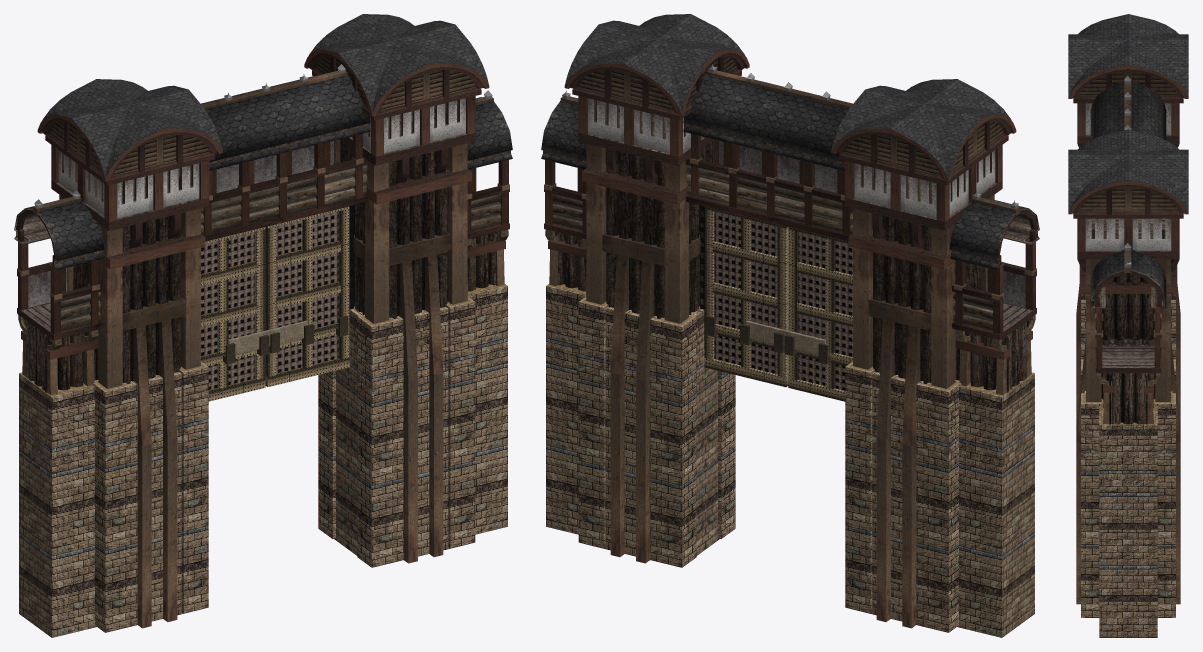
File: s_mauryas_wall_gate.glb
3 views of the same model, side by side, from view 1: azimuth 30°, elevation 25°; view 2: azimuth 150°, elevation 25°; view 3: azimuth 270°, elevation 25° (orthographic). The views are drawn at different scales.
Parts seen in each view (by area): view 1: s_mauryas_wall_gate_part2, s_mauryas_wall_gate_part0, s_mauryas_wall_gate_part1; view 2: s_mauryas_wall_gate_part2, s_mauryas_wall_gate_part0, s_mauryas_wall_gate_part1; view 3: s_mauryas_wall_gate_part2, s_mauryas_wall_gate_part0, s_mauryas_wall_gate_part1.
Part boxes in pixels (box(x1,y1,x2,y2)): s_mauryas_wall_gate_part2: box(14, 14, 512, 628); s_mauryas_wall_gate_part0: box(16, 64, 510, 637); s_mauryas_wall_gate_part1: box(21, 108, 498, 392); s_mauryas_wall_gate_part2: box(541, 14, 1039, 628); s_mauryas_wall_gate_part0: box(543, 64, 1037, 637); s_mauryas_wall_gate_part1: box(555, 140, 1032, 392); s_mauryas_wall_gate_part2: box(1068, 14, 1188, 604); s_mauryas_wall_gate_part0: box(1081, 76, 1175, 637); s_mauryas_wall_gate_part1: box(1092, 221, 1164, 424).
Size of the model in its own units: 9.09 by 9.5 by 2.34.
Materials: 3 (3 with a texture image).
